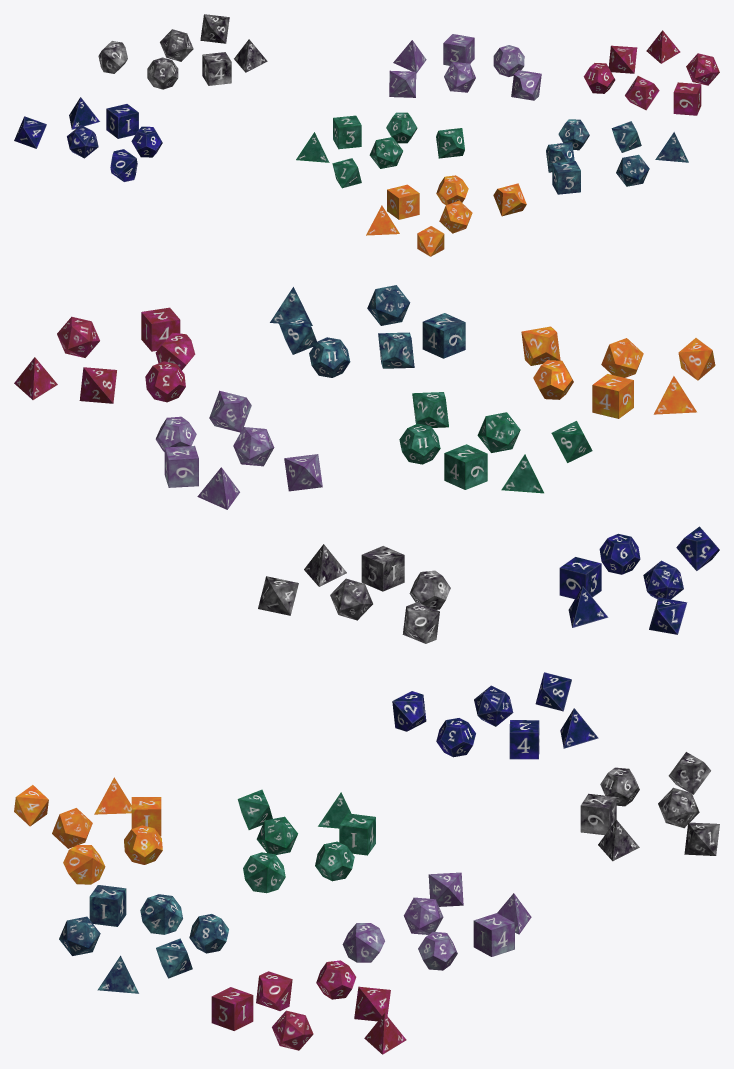
The picture shows the model from 3 angles, top to bottom: view 1: azimuth 30°, elevation 25°; view 2: azimuth 150°, elevation 25°; view 3: azimuth 270°, elevation 25°; orthographic projection. The views are drawn at different scales.
Parts seen in each view (by area): view 1: LP.060, LP.056, LP.050, LP.025, LP.035, LP.009, LP.032, LP.048, LP.030, LP.031, LP.059, LP (+30 smaller); view 2: LP.009, LP.025, LP.050, LP.060, LP.056, LP.032, LP.037, LP.054, LP.019, LP.008, LP.035, LP.007 (+30 smaller); view 3: LP.035, LP.032, LP.009, LP.011, LP.017, LP.050, LP.025, LP.031, LP.059, LP.056, LP.058, LP.008 (+29 smaller).
Part boxes in pixels (x1=…): LP.060: x1=387, y1=184, x2=419, y2=219; LP.056: x1=106, y1=104, x2=138, y2=138; LP.050: x1=202, y1=52, x2=231, y2=85; LP.025: x1=333, y1=115, x2=361, y2=149; LP.035: x1=673, y1=82, x2=701, y2=115; LP.009: x1=552, y1=161, x2=580, y2=194; LP.032: x1=443, y1=34, x2=474, y2=65; LP.048: x1=147, y1=57, x2=178, y2=89; LP.030: x1=493, y1=45, x2=524, y2=76; LP.031: x1=511, y1=70, x2=541, y2=100; LP.059: x1=493, y1=183, x2=526, y2=216; LP: x1=616, y1=154, x2=649, y2=186; LP.009: x1=422, y1=313, x2=465, y2=358; LP.025: x1=444, y1=444, x2=487, y2=489; LP.050: x1=361, y1=546, x2=404, y2=591; LP.060: x1=592, y1=374, x2=633, y2=418; LP.056: x1=559, y1=557, x2=601, y2=599; LP.032: x1=164, y1=445, x2=198, y2=487; LP.037: x1=145, y1=361, x2=185, y2=402; LP.054: x1=599, y1=533, x2=640, y2=574; LP.019: x1=309, y1=337, x2=350, y2=377; LP.008: x1=399, y1=423, x2=440, y2=464; LP.035: x1=141, y1=307, x2=180, y2=351; LP.007: x1=477, y1=412, x2=520, y2=452; LP.035: x1=211, y1=987, x2=253, y2=1030; LP.032: x1=473, y1=913, x2=514, y2=956; LP.009: x1=89, y1=885, x2=126, y2=926; LP.011: x1=243, y1=852, x2=285, y2=893; LP.017: x1=140, y1=894, x2=182, y2=934; LP.050: x1=580, y1=793, x2=616, y2=835; LP.025: x1=339, y1=813, x2=375, y2=855; LP.031: x1=342, y1=923, x2=384, y2=962; LP.059: x1=63, y1=845, x2=105, y2=884; LP.056: x1=509, y1=720, x2=539, y2=759; LP.058: x1=124, y1=825, x2=162, y2=864; LP.008: x1=315, y1=841, x2=354, y2=881.
Size of the model in its own units: 25.18 by 1.09 by 21.02.
7 materials, 7 textured.
